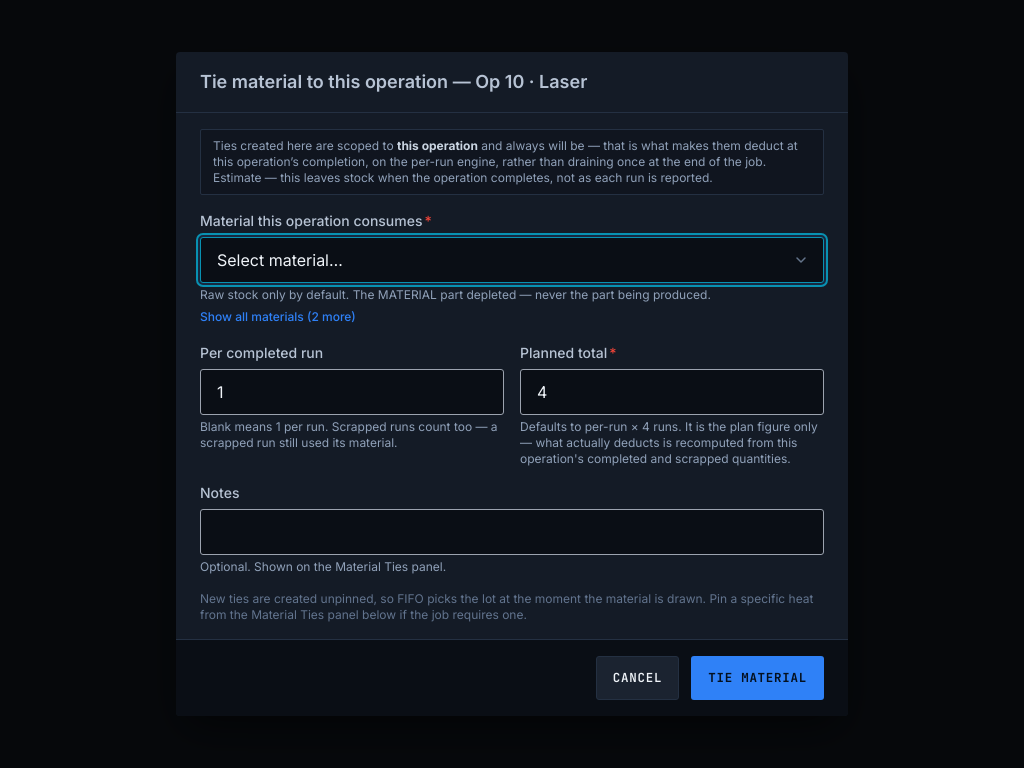
Test case: OperationMaterialTieModal: raw stock by default, everything else one click away › keeps a consumable picked through the escape hatch when the filter narrows again
This screenshot has width=1024, height=768.
Expected: the dropdown labelled "Material this operation consumes*" is shown, [200,237,824,283]
Click the button "Show all materials (2 more)" at (278, 317), box [200,309,356,325]
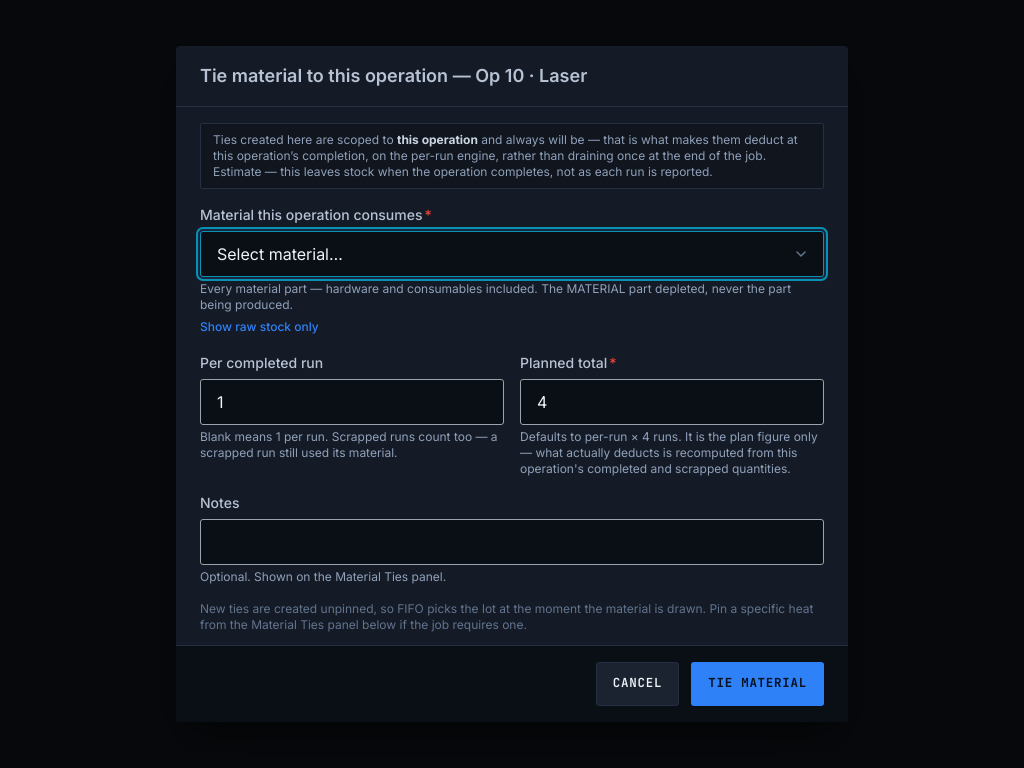
Select "CON-MIG-035 — MIG wire, 33 lb coil" in the dropdown labelled "Material this operation consumes*" at (512, 254), box [200,231,824,277]
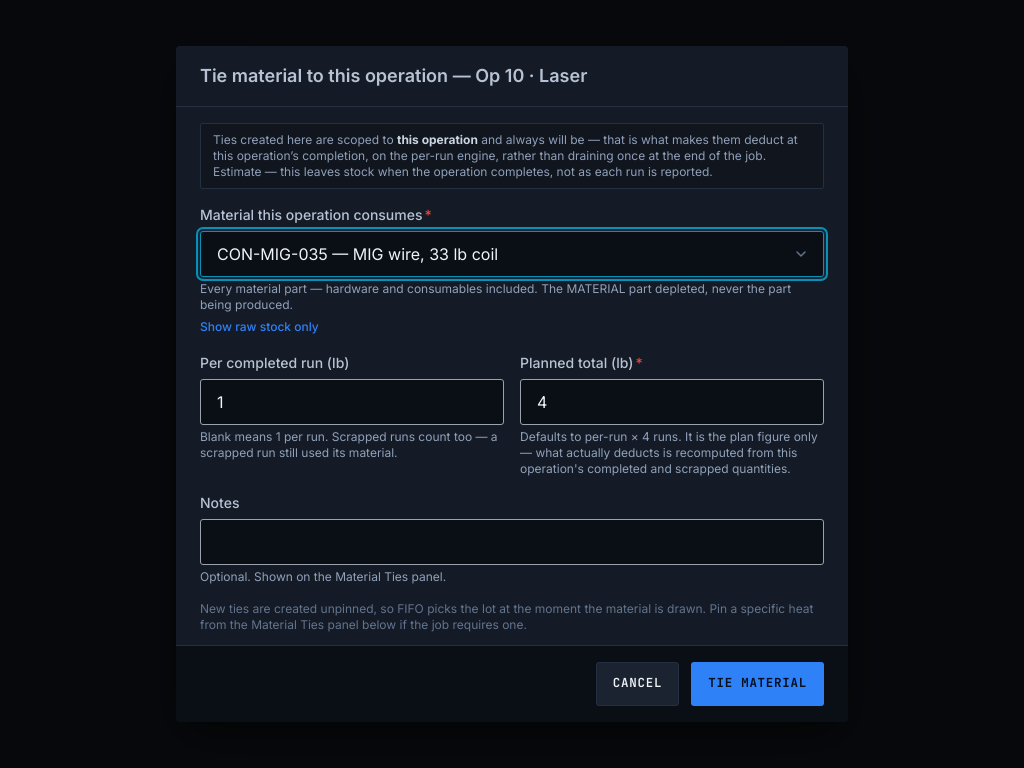
Click the button "Show raw stock only" at (259, 327), box [200,319,319,335]
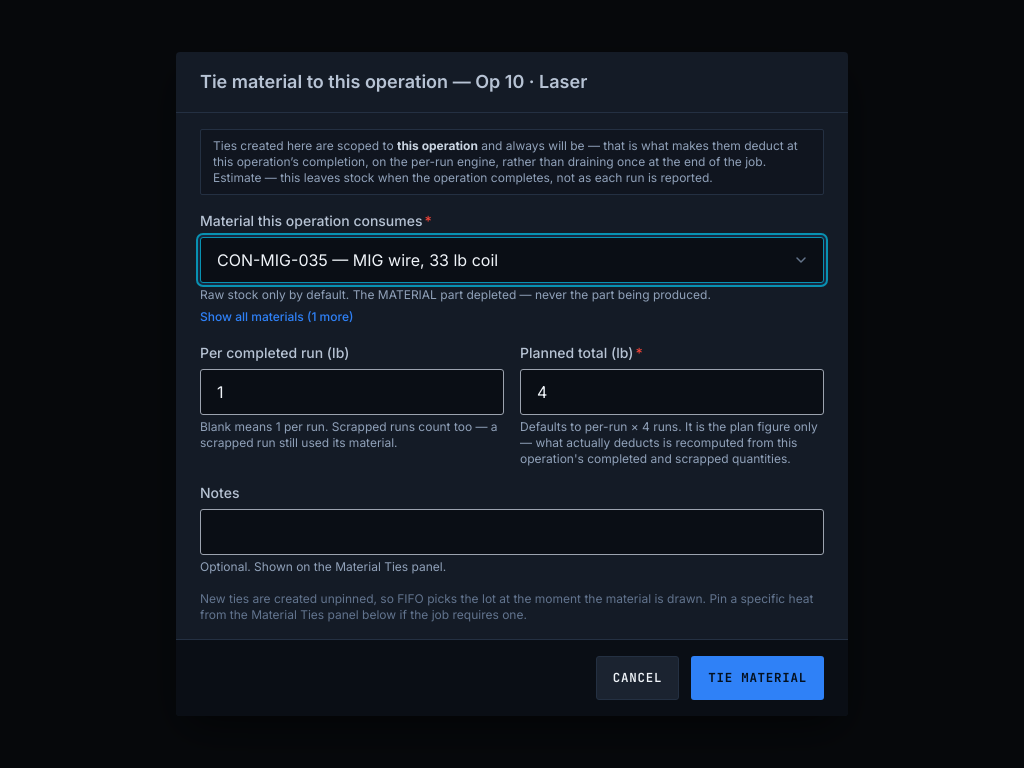
Expected: the number field labelled "Per completed run (lb)" is shown, [200,369,504,415]
Expected: the button "Show all materials (1 more)" is shown, [200,309,353,325]
